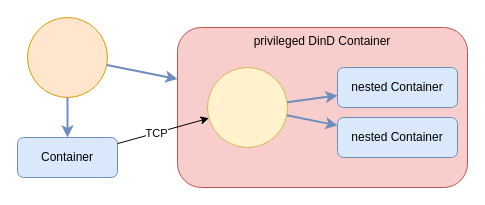
Image size: 485x205. Some labels were removed from this diagram. Here are the shapes that lost their labels. From the top down, the centre of each, then its label:
the point at 67,57: native dockerd
the point at 247,107: nested dockerd
